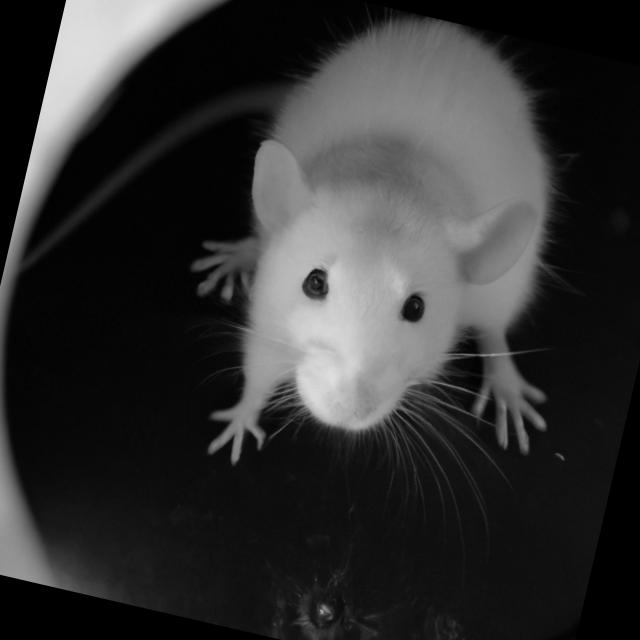rodent: (180, 0, 613, 494)
